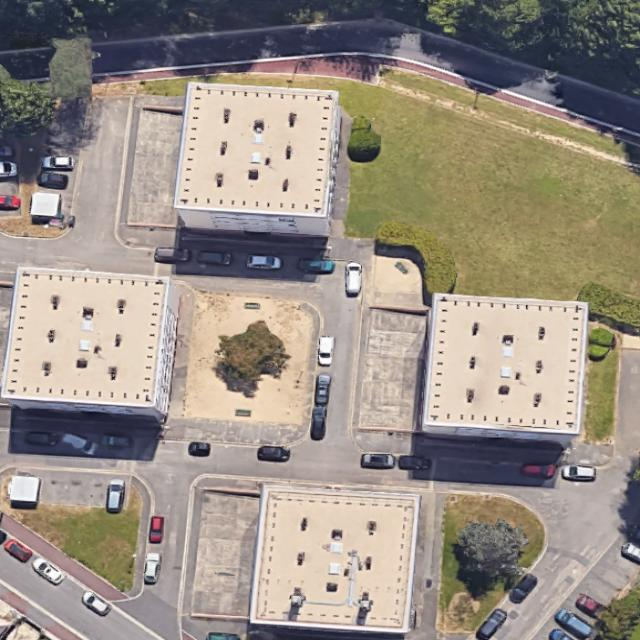immeuble: (0, 266, 182, 422), (171, 81, 342, 239), (419, 290, 588, 446), (251, 485, 419, 634)
